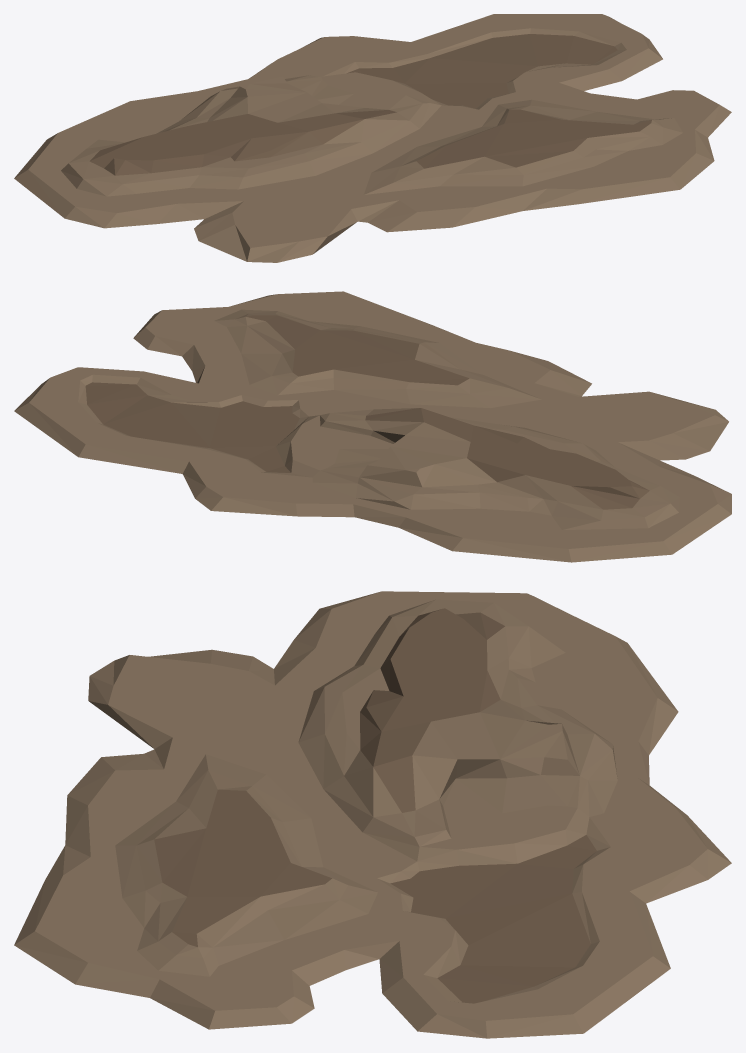
Rendered from EA03_Env_Mud_Flat_01c.glb.
3 renders of one model, top to bottom at view 1: azimuth 30°, elevation 25°; view 2: azimuth 150°, elevation 25°; view 3: azimuth 270°, elevation 25°, orthographic. The views are drawn at different scales.
Visible parts, largest first — view 1: EA03_Env_Mud_Flat_01c; view 2: EA03_Env_Mud_Flat_01c; view 3: EA03_Env_Mud_Flat_01c.
Boxes of the visible parts, x1,y1,x2,y2 form: EA03_Env_Mud_Flat_01c: [14, 14, 731, 262]; EA03_Env_Mud_Flat_01c: [14, 291, 731, 562]; EA03_Env_Mud_Flat_01c: [14, 591, 731, 1038].
Size of the model in its own units: 8.26 by 0.3542 by 5.65.
Materials: 1 (1 with a texture image).
